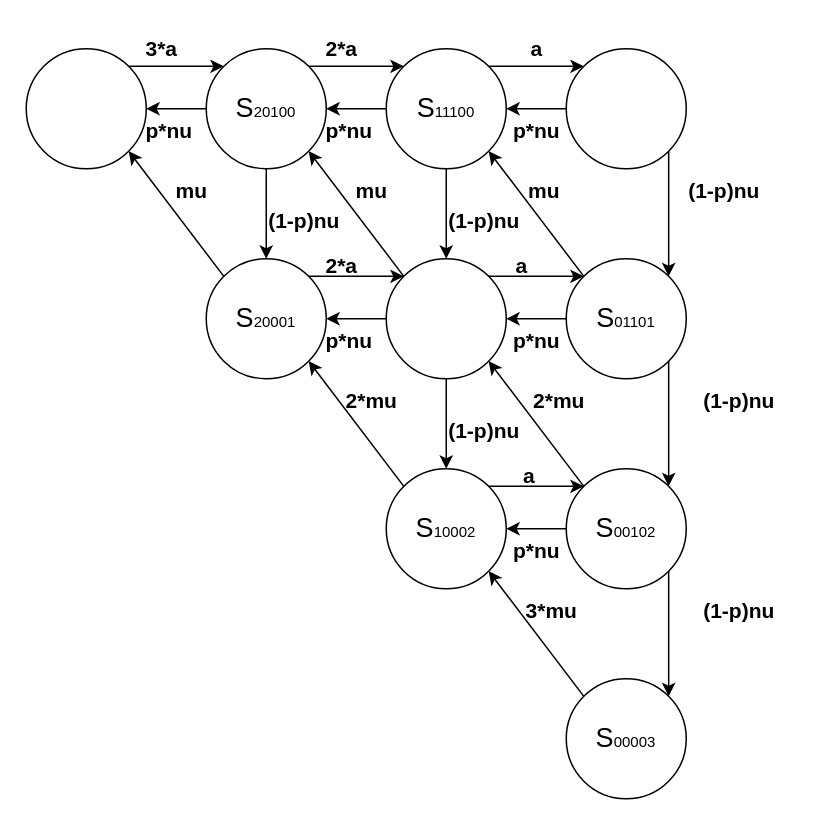
The diagram is 818 pixels wide and 825 high, and some of its shapes have lost their labels. The box of each missing label's shape, as (x1, y1, x2, y2) in pixels:
S 02100: (565, 47, 686, 169)
S 10101: (385, 257, 506, 379)
S 30000: (25, 47, 146, 169)
